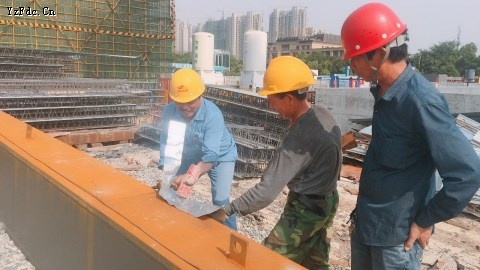red: (336, 1, 413, 86)
yellow: (259, 55, 318, 119), (167, 68, 206, 118)
